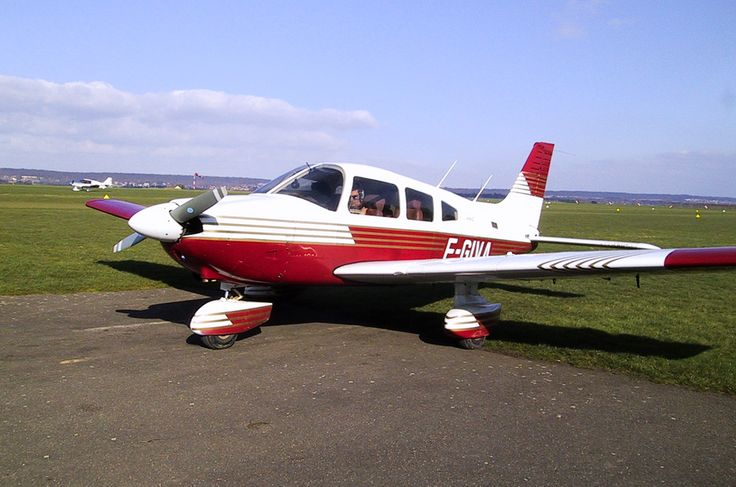Aeronef_de_loisir: (68, 135, 736, 363)
